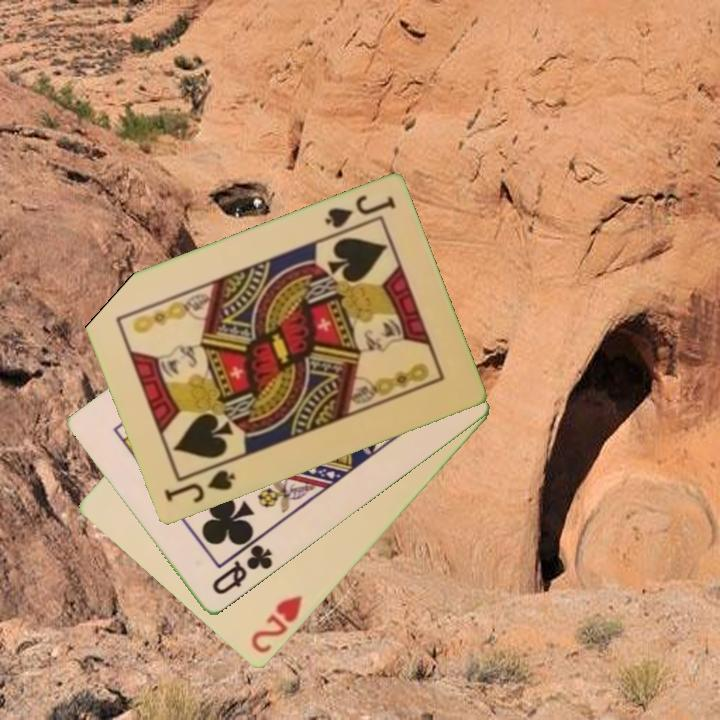2h: (247, 591, 306, 657)
Js: (160, 466, 239, 507), (321, 192, 399, 233)
Qc: (208, 541, 276, 599)
